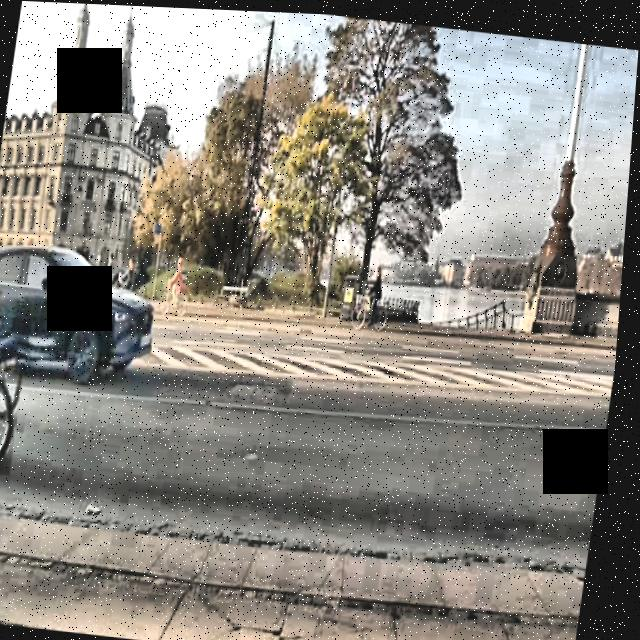bicycle: (0, 313, 36, 475)
